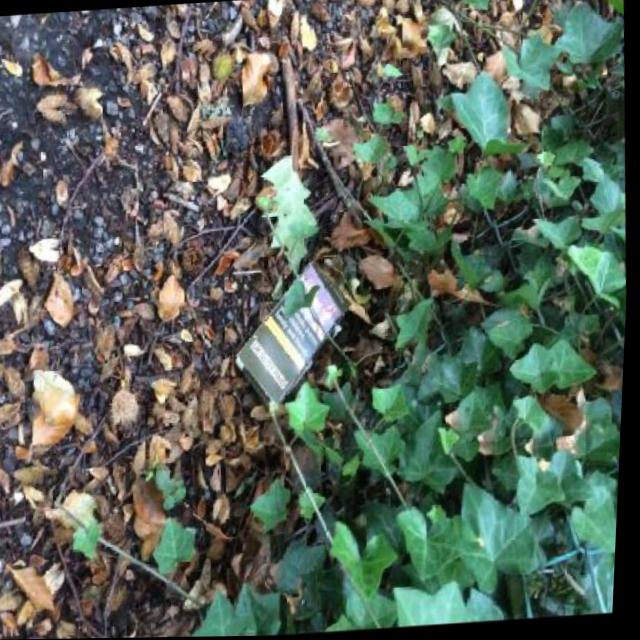cardboard: (228, 258, 359, 409)
